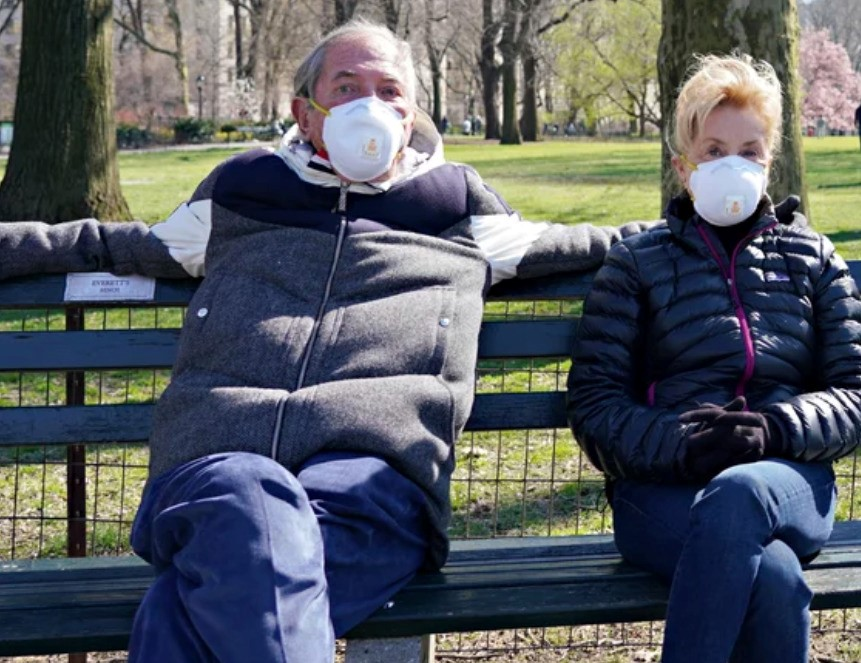Bad: (1, 16, 858, 663)
